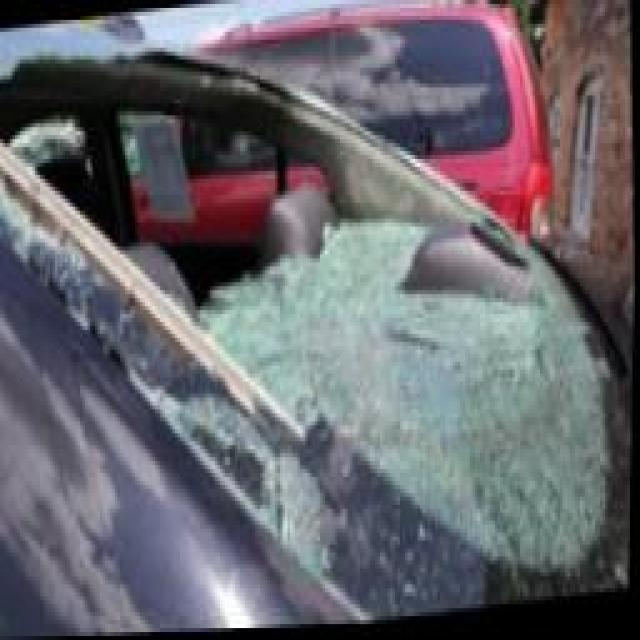Windshield: (0, 57, 634, 622)
